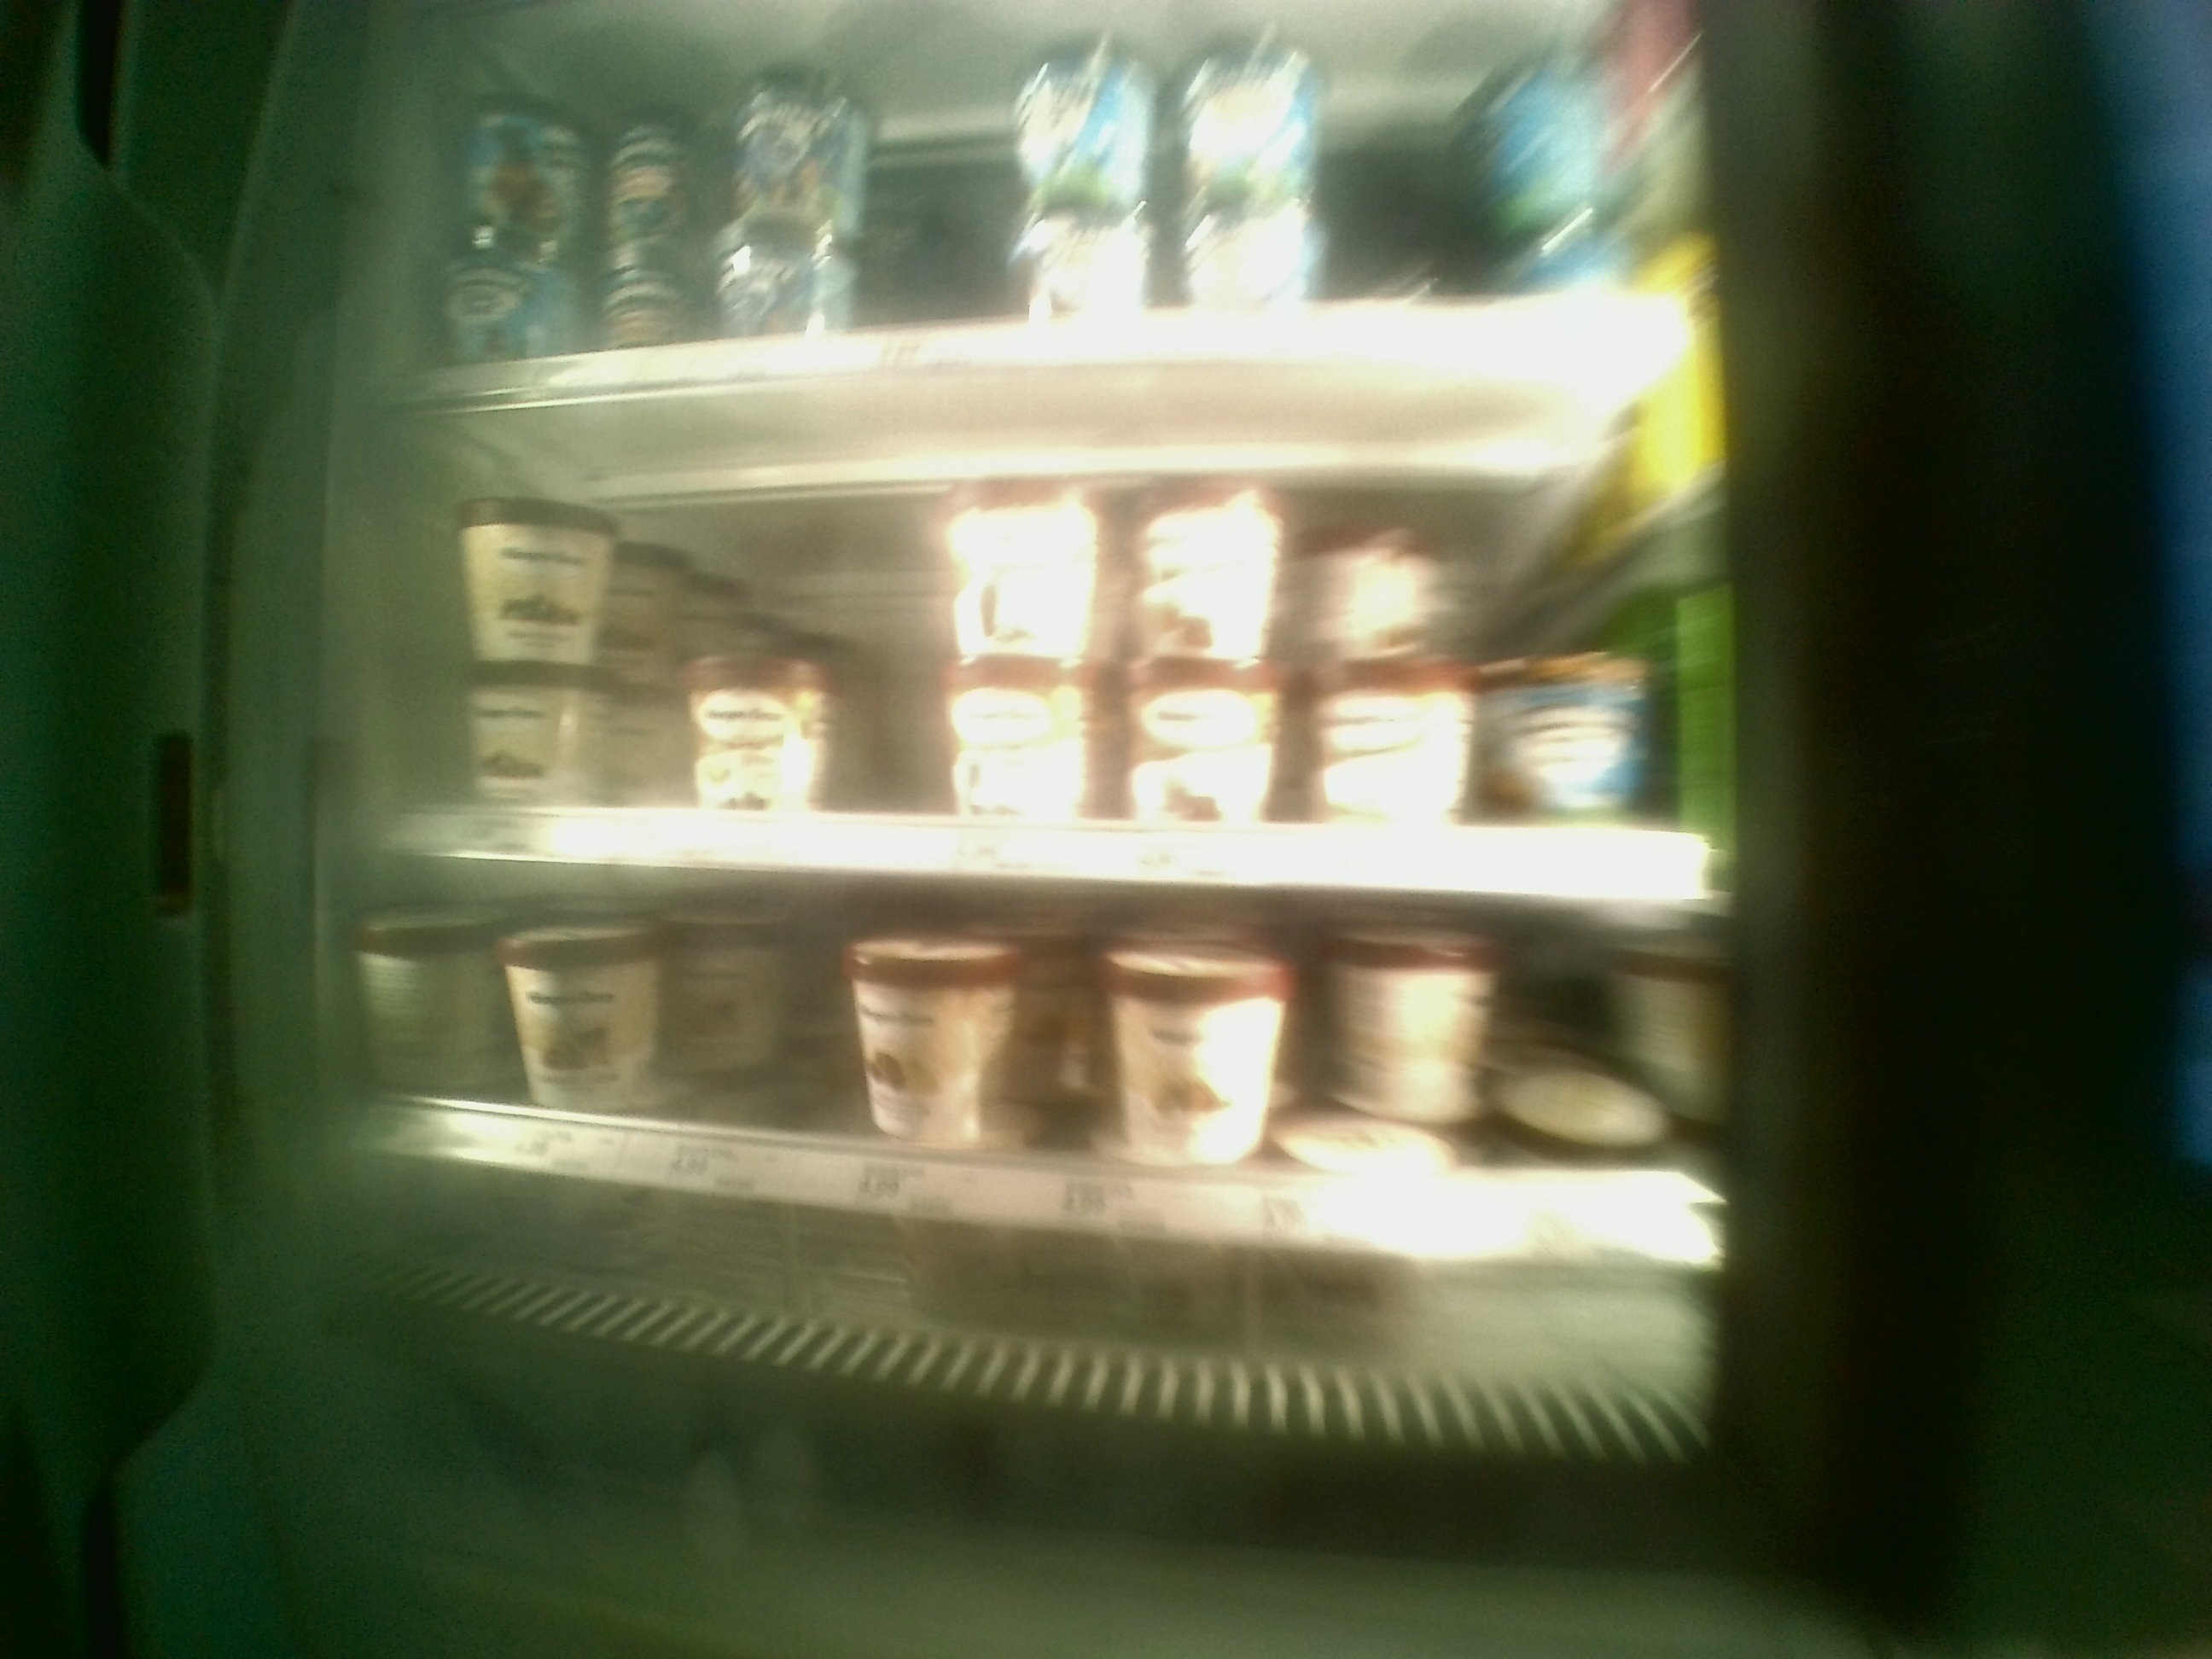shelf: (406, 352, 1726, 913), (394, 859, 1719, 1373)
